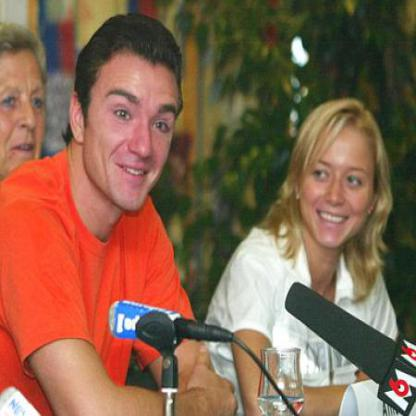face: (87, 28, 178, 216), (302, 106, 378, 251), (1, 37, 52, 183)
